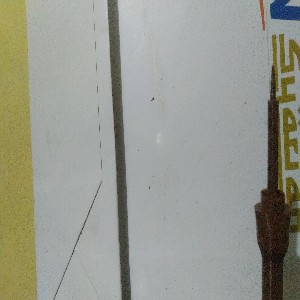solder: (253, 65, 293, 300)
